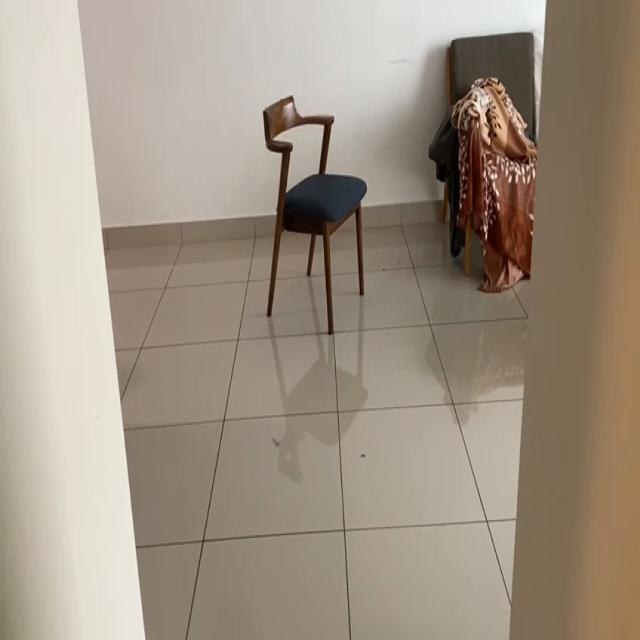Chair: (252, 90, 371, 346)
